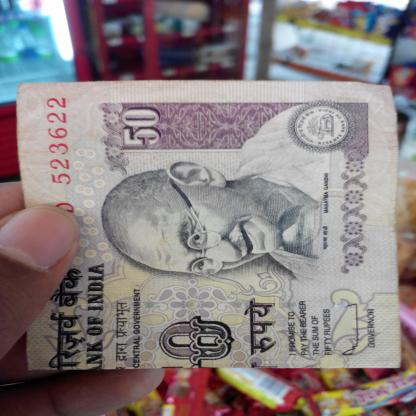Old50Front: (14, 80, 400, 371)
